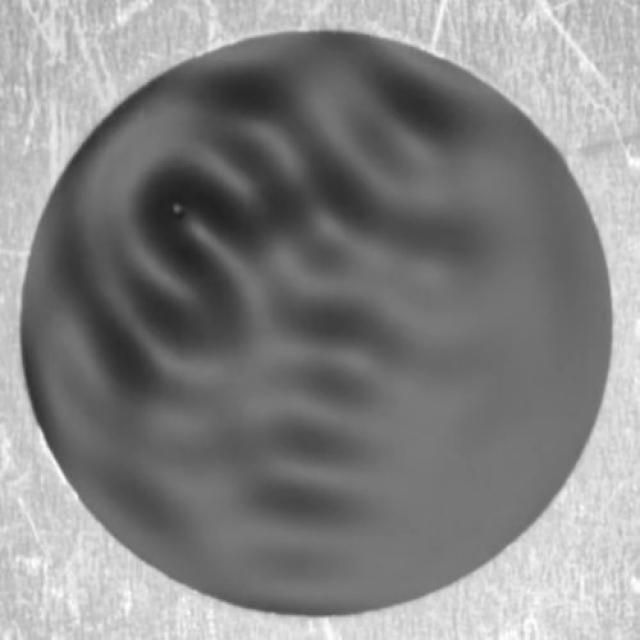droplet: (169, 200, 186, 223)
